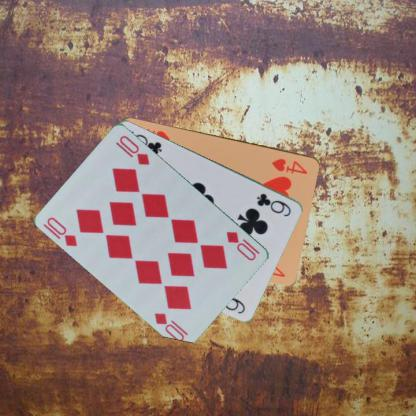10d: (224, 228, 262, 262), (45, 214, 79, 248)
4h: (269, 155, 309, 175)
6c: (254, 190, 293, 218)
